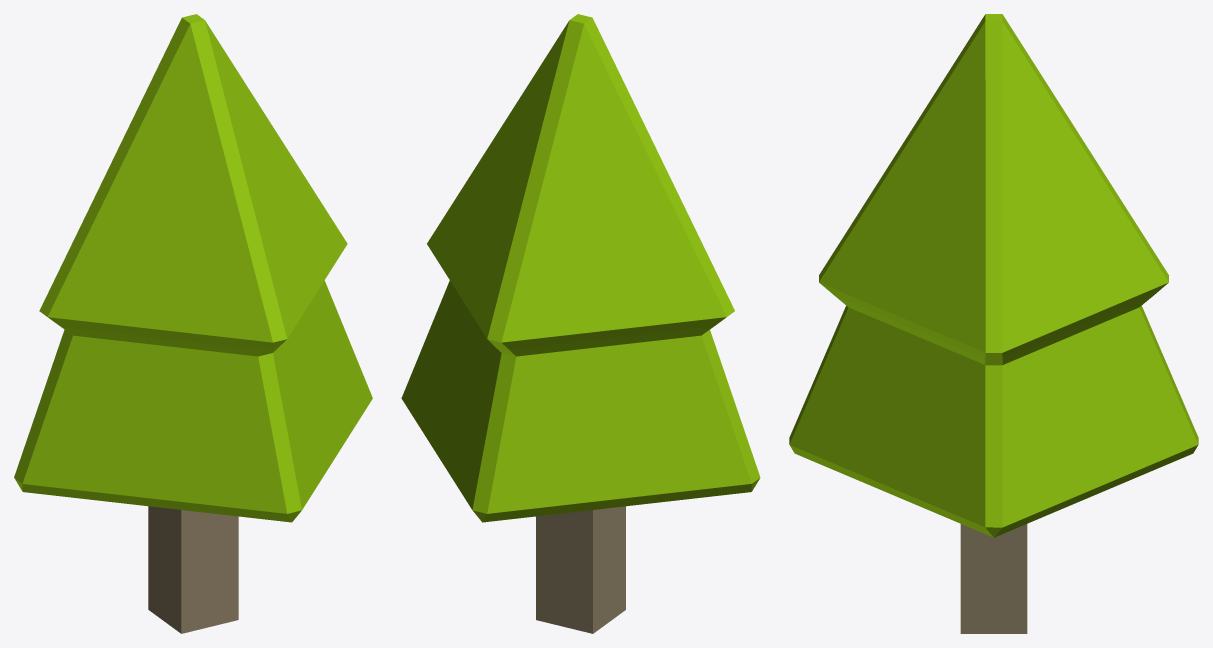
Rendered from pine_14_bevel.fbx.
3 views of the same model, side by side, from view 1: azimuth 30°, elevation 25°; view 2: azimuth 150°, elevation 25°; view 3: azimuth 270°, elevation 25° (orthographic).
Visible parts, largest first — view 1: pine_14_bevel; view 2: pine_14_bevel; view 3: pine_14_bevel.
Boxes of the visible parts, <box> form: pine_14_bevel: <box>14,14,372,633</box>; pine_14_bevel: <box>401,14,760,633</box>; pine_14_bevel: <box>789,14,1198,633</box>.
Bounding box in the file's own units: 74.19 × 121 × 74.19.
